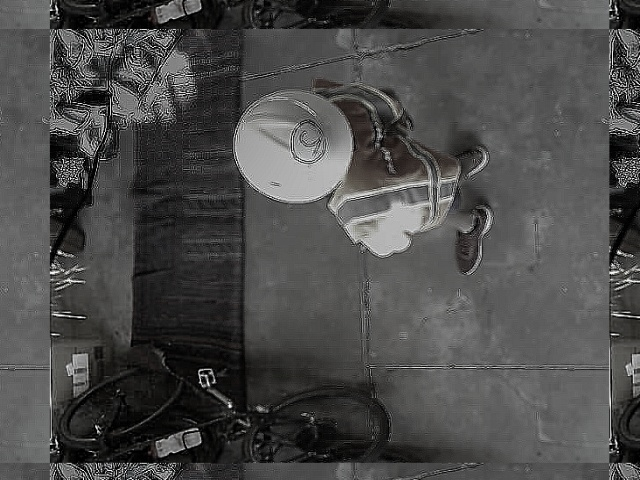two: (290, 120, 325, 164)
